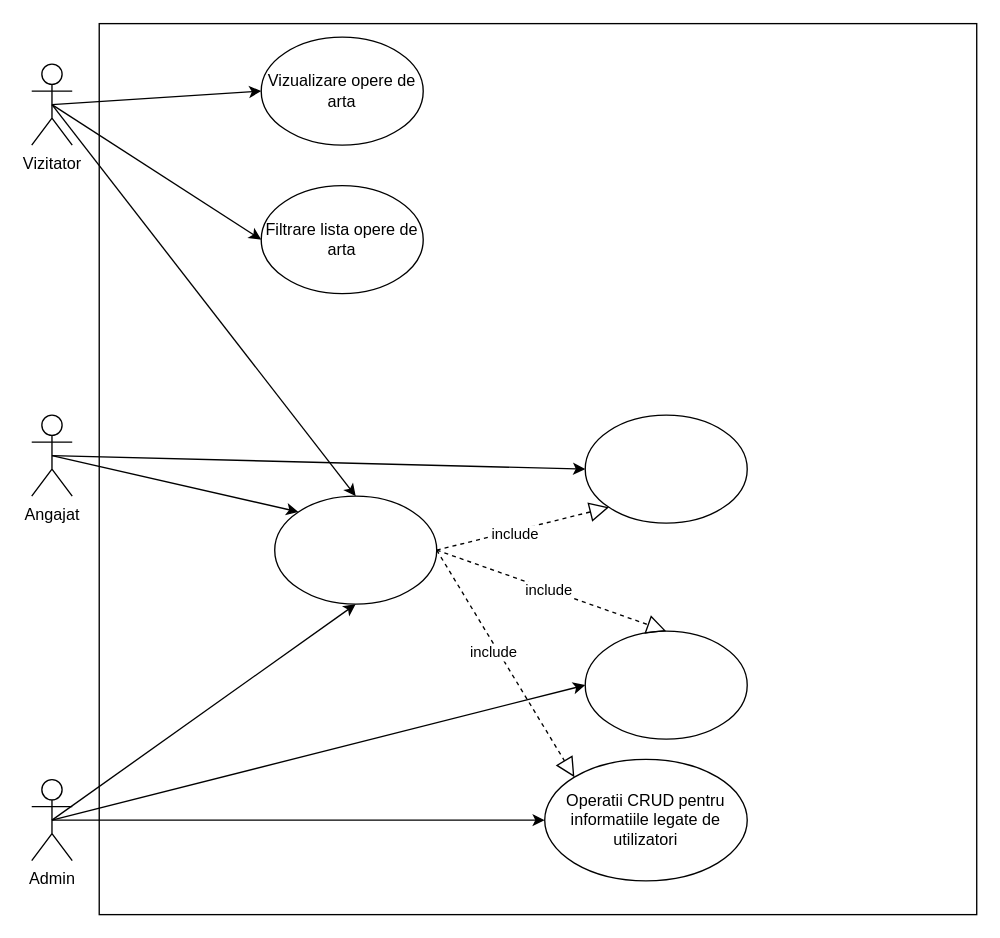
This 1000x938 diagram has some shape labels left out. Here are the shapes that lost their labels. From the top down, the centre of each, then its label:
At (x=665, y=468): "Operatii CRUD pe info despre opere de arta".
At (x=355, y=549): "Login".
At (x=665, y=684): "Vizualizare lista useri".
